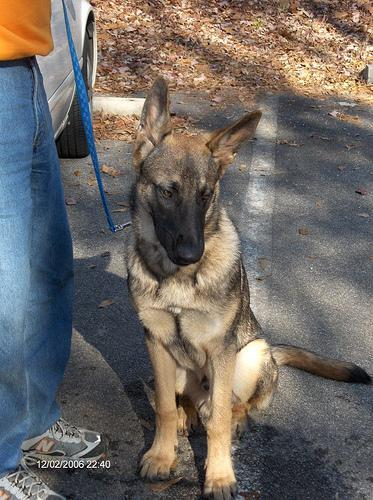German_shepherd: (121, 71, 371, 498)
